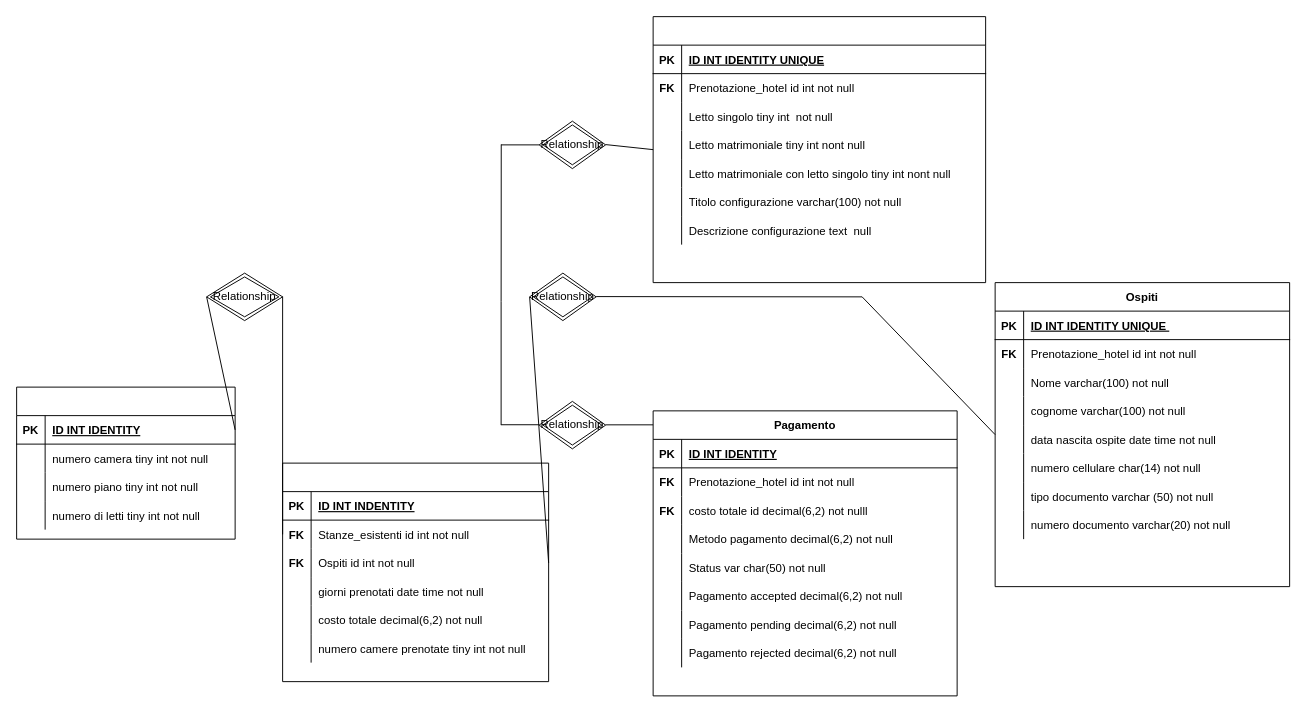
The diagram is 1306 pixels wide and 713 high, and some of its shapes have lost their labels. The shapes that lost their labels are listed below. From the top down, each one's box as (x1, y1, x2, y2) in pixels, then its label:
(652, 16, 986, 283): Configurazione_prenotazioni
(16, 386, 235, 539): Stanze_esistenti
(282, 462, 549, 682): Prenotazione_hotel
